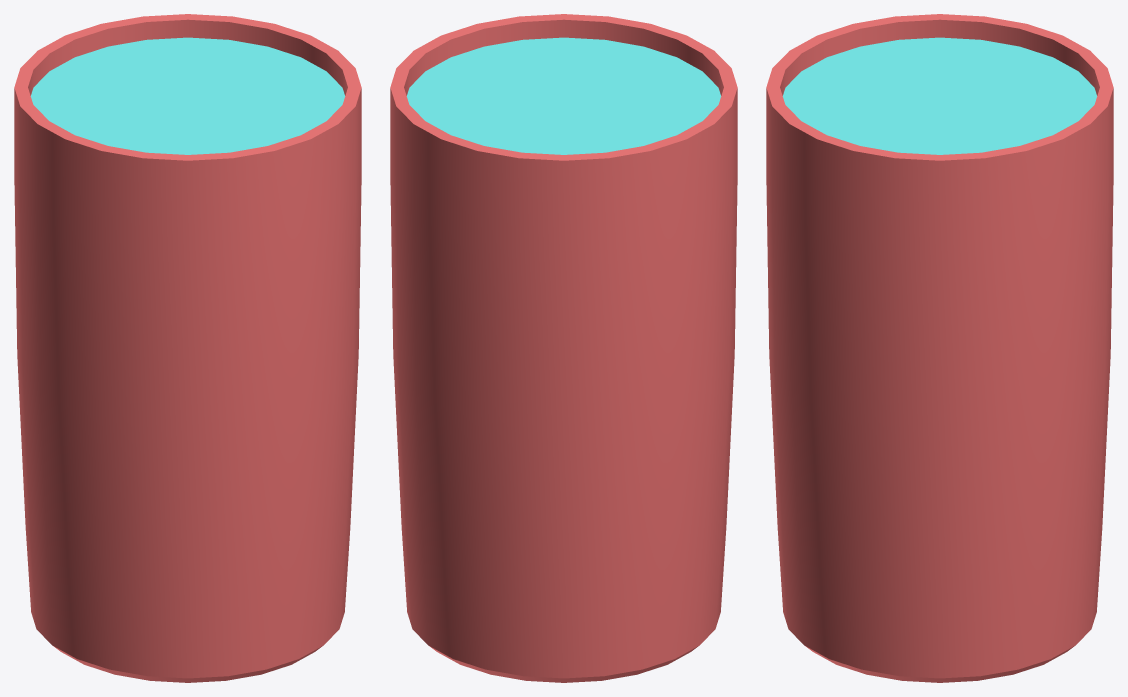
Rendered from SM_PlanterA01.fbx.
The picture shows the model from 3 angles, left to right: view 1: azimuth 30°, elevation 25°; view 2: azimuth 150°, elevation 25°; view 3: azimuth 270°, elevation 25°; orthographic projection.
Parts seen in each view (by area): view 1: SM_PlanterA01; view 2: SM_PlanterA01; view 3: SM_PlanterA01.
Boxes of the visible parts, x1=… form: SM_PlanterA01: x1=14, y1=14, x2=361, y2=682; SM_PlanterA01: x1=390, y1=14, x2=737, y2=682; SM_PlanterA01: x1=766, y1=14, x2=1113, y2=682.
Bounding box in the file's own units: 0.3539 × 0.6 × 0.3539.
